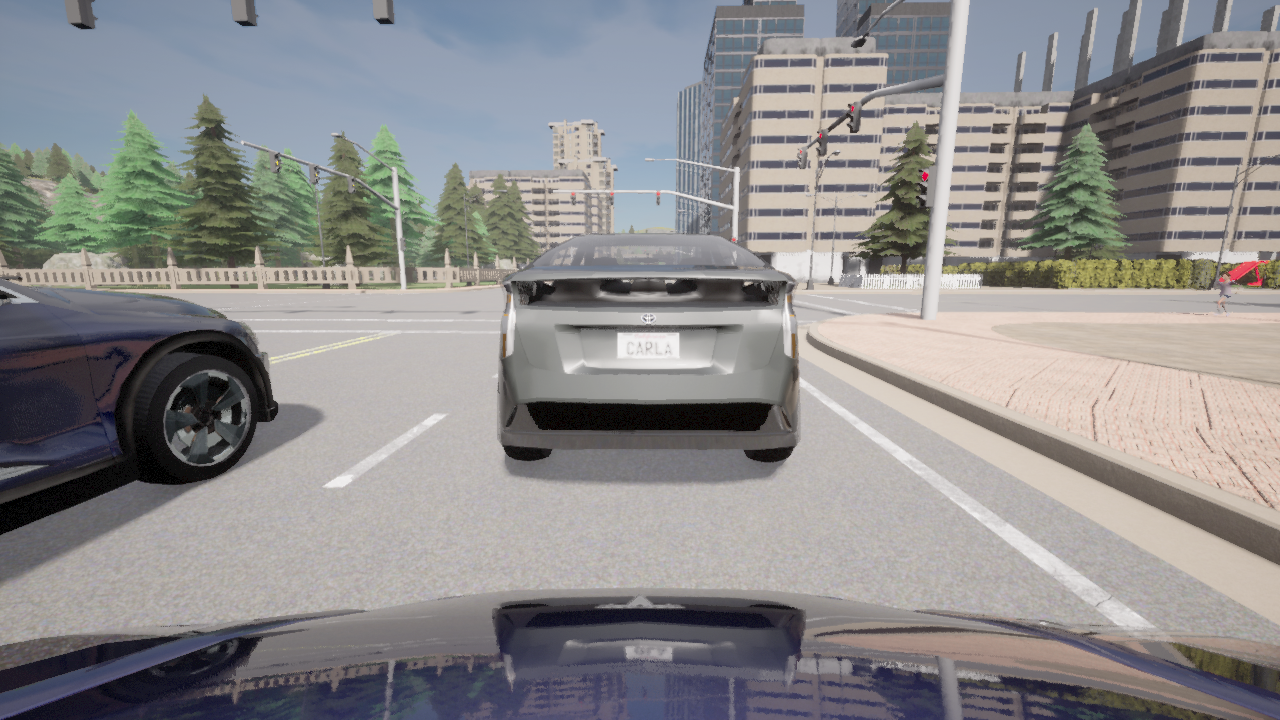cyclist: (0, 588, 1279, 719), (497, 233, 799, 461)
pedestrian: (1211, 273, 1241, 316)
